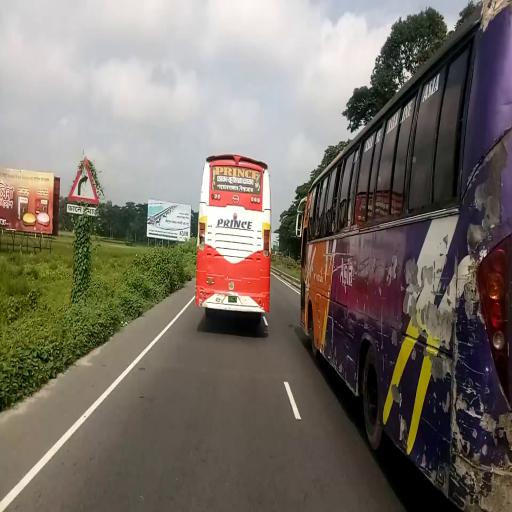bus: (296, 4, 512, 511), (200, 155, 272, 325)
